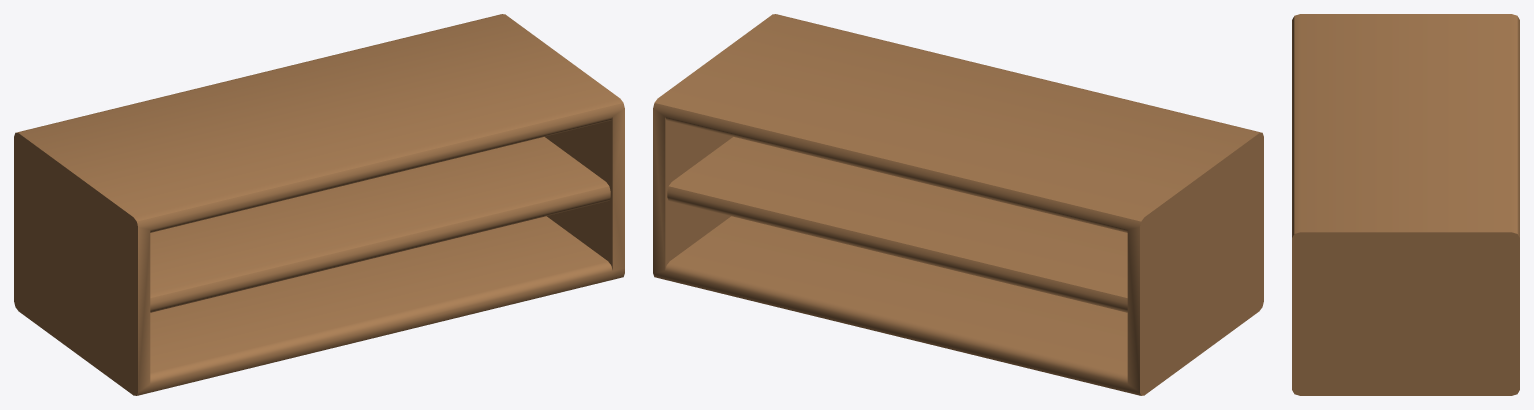
File: sushi-Environment_Cabinet_Shelves.glb
3 views of the same model, side by side, from view 1: azimuth 30°, elevation 25°; view 2: azimuth 150°, elevation 25°; view 3: azimuth 270°, elevation 25° (orthographic). The views are drawn at different scales.
Parts seen in each view (by area): view 1: Environment_Cabinet_Shelves; view 2: Environment_Cabinet_Shelves; view 3: Environment_Cabinet_Shelves.
Boxes of the visible parts, x1,y1,x2,y2 form: Environment_Cabinet_Shelves: [14, 14, 624, 395]; Environment_Cabinet_Shelves: [653, 14, 1263, 395]; Environment_Cabinet_Shelves: [1292, 14, 1519, 395].
Size of the model in its own units: 4 by 1.4 by 1.77.
Materials: 1 (1 with a texture image).
